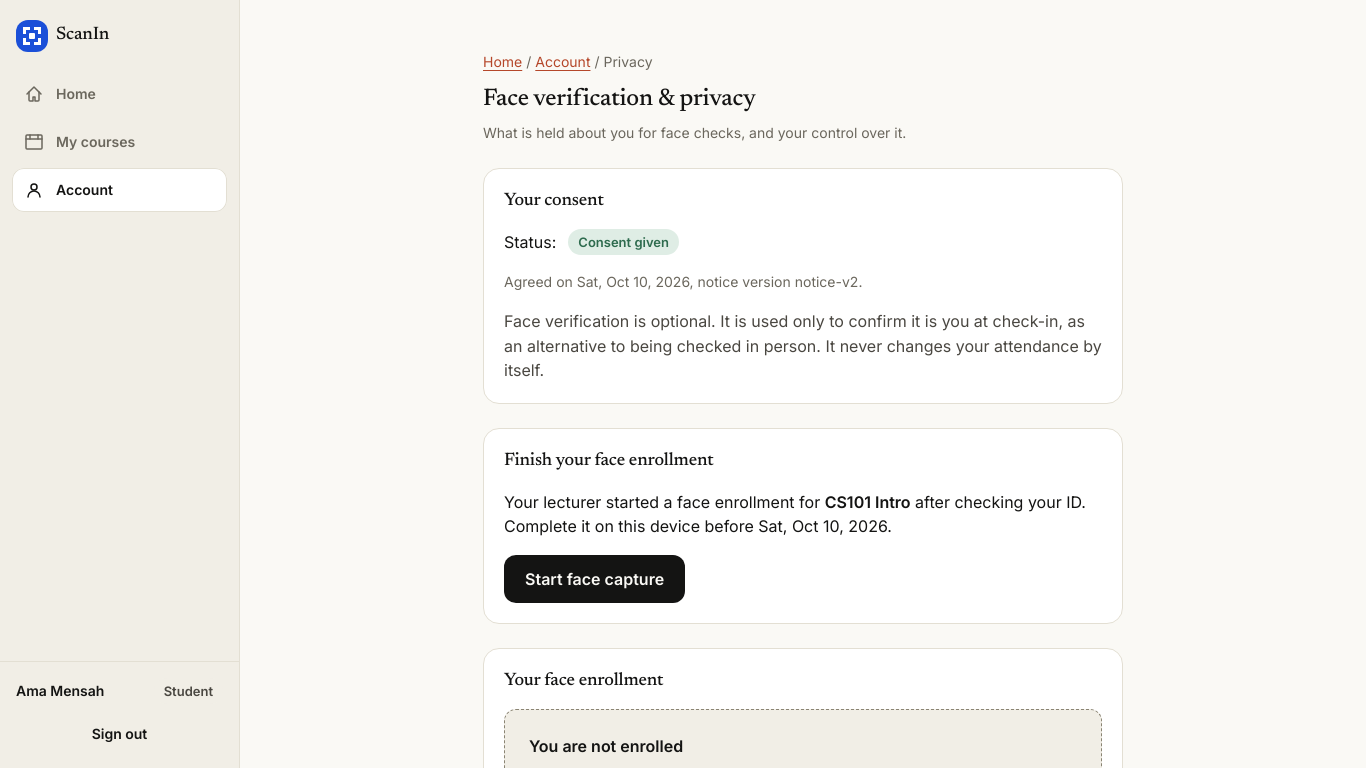
Test: student privacy page › completes a lecturer-started enrollment with a capture on the student device
Click the button "Start face capture".
click(595, 579)  # box [504, 555, 685, 603]
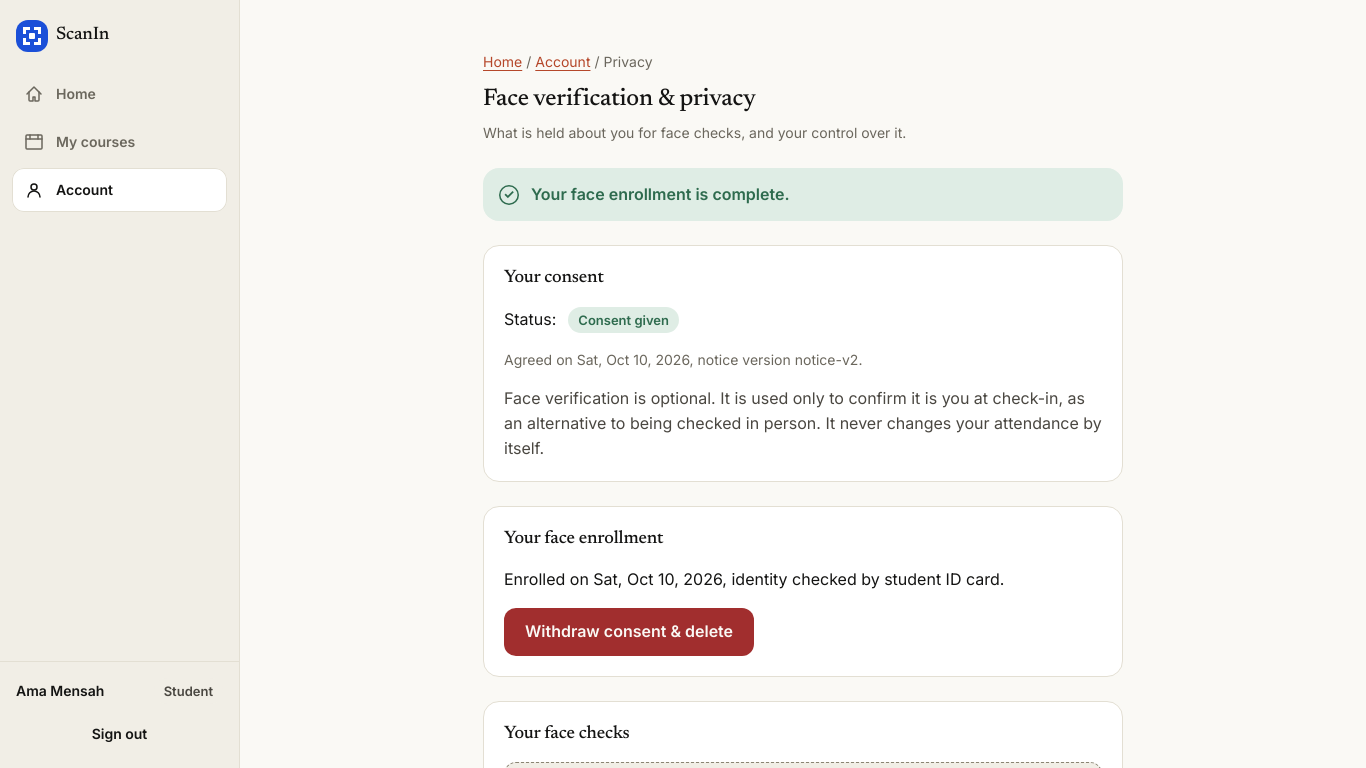
expect the heading "Your face enrollment is complete." is shown: met, box [531, 184, 790, 205]
expect the text "Enrolled on" is shown: met, box [504, 569, 593, 589]
